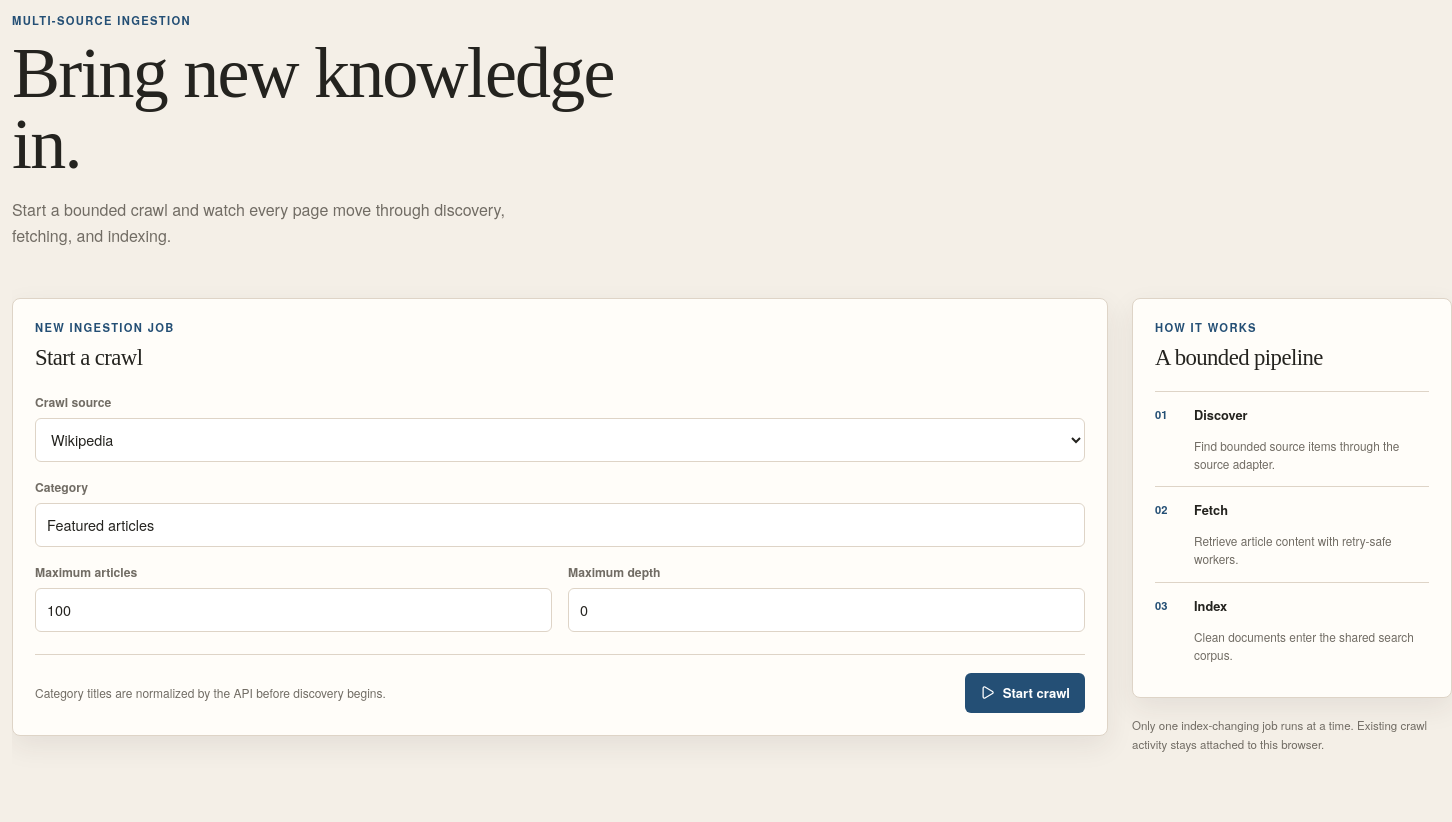
it: CrawlsPage › validates crawl bounds before submitting
Clear the field labelled "Category" at {"x": 560, "y": 525}, box [35, 503, 1085, 547]
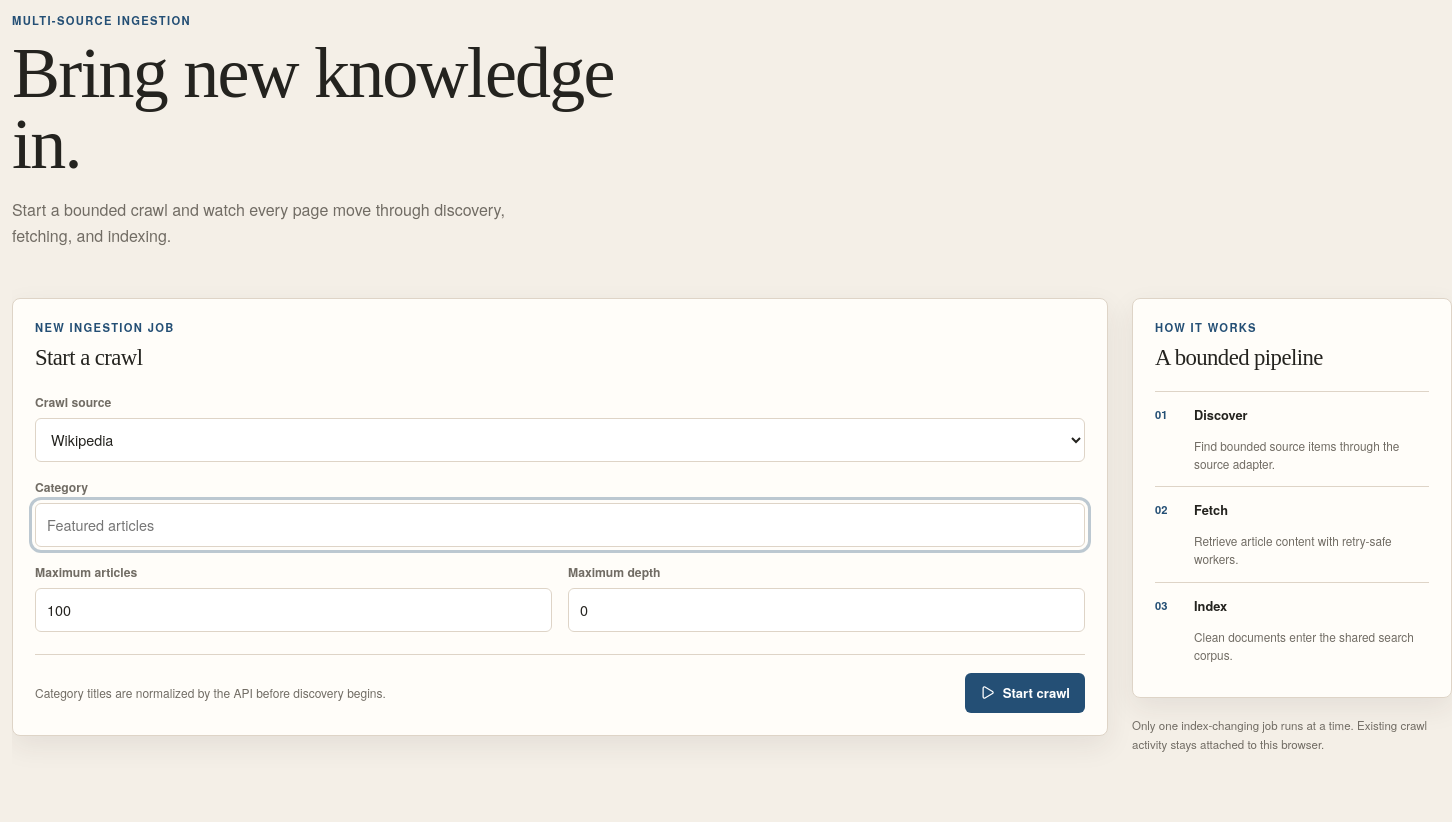
Replace the text in the number field labelled "Maximum articles" with "0" at {"x": 294, "y": 610}, box [35, 588, 552, 632]
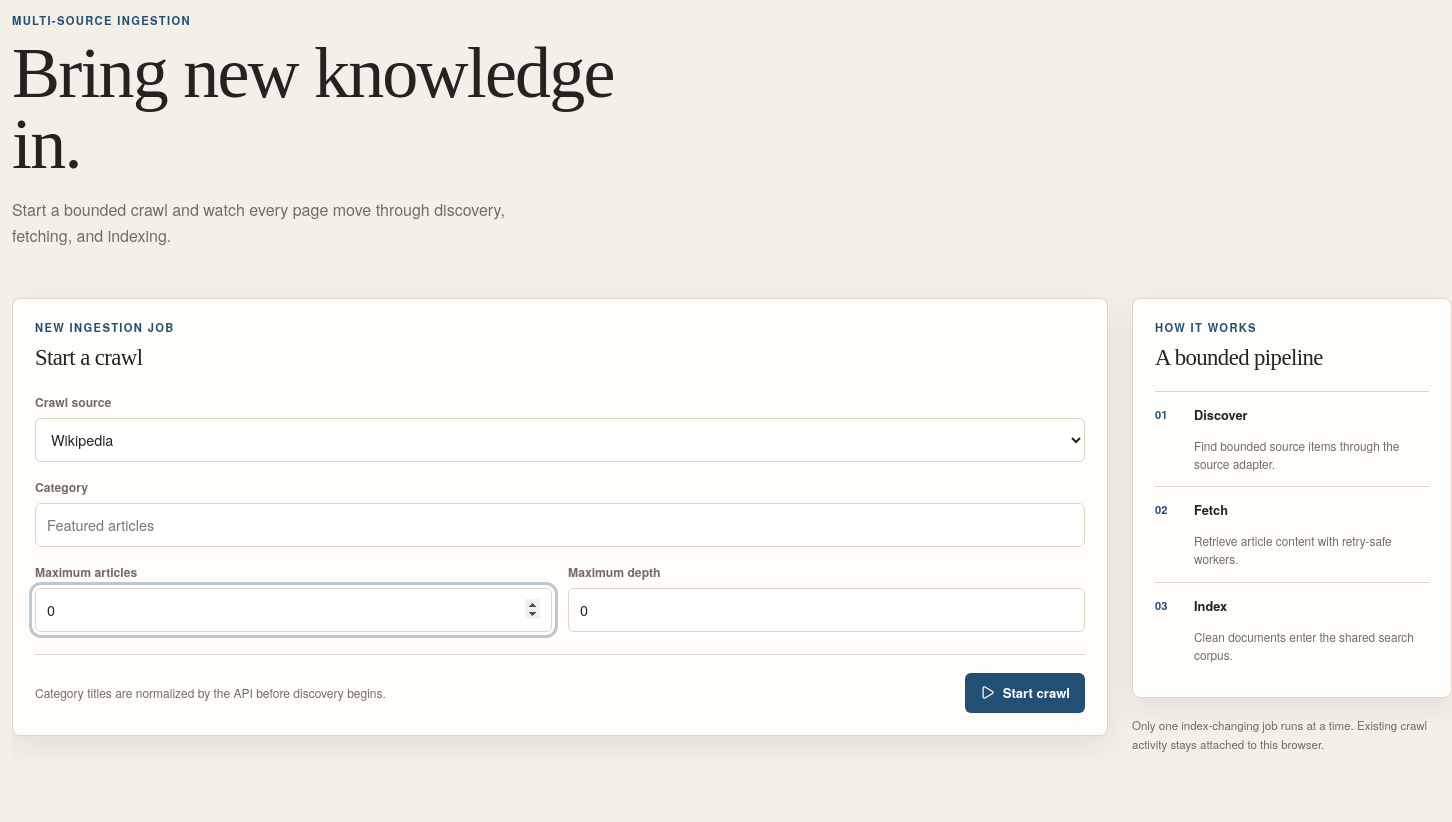
Replace the text in the number field labelled "Maximum depth" with "3" at {"x": 826, "y": 610}, box [568, 588, 1085, 632]
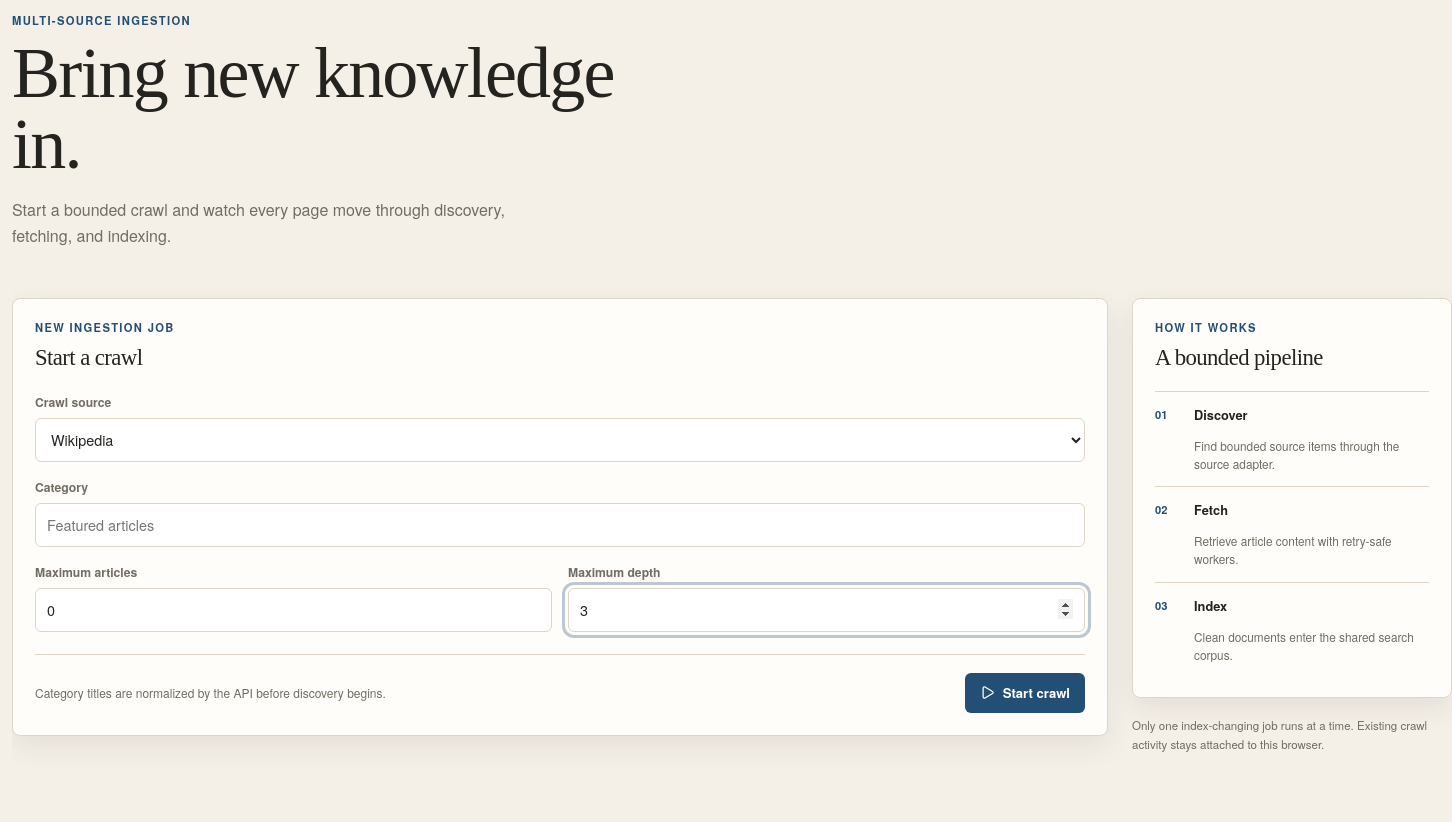
Click the button "Start crawl" at {"x": 1025, "y": 693}, box [965, 673, 1085, 713]
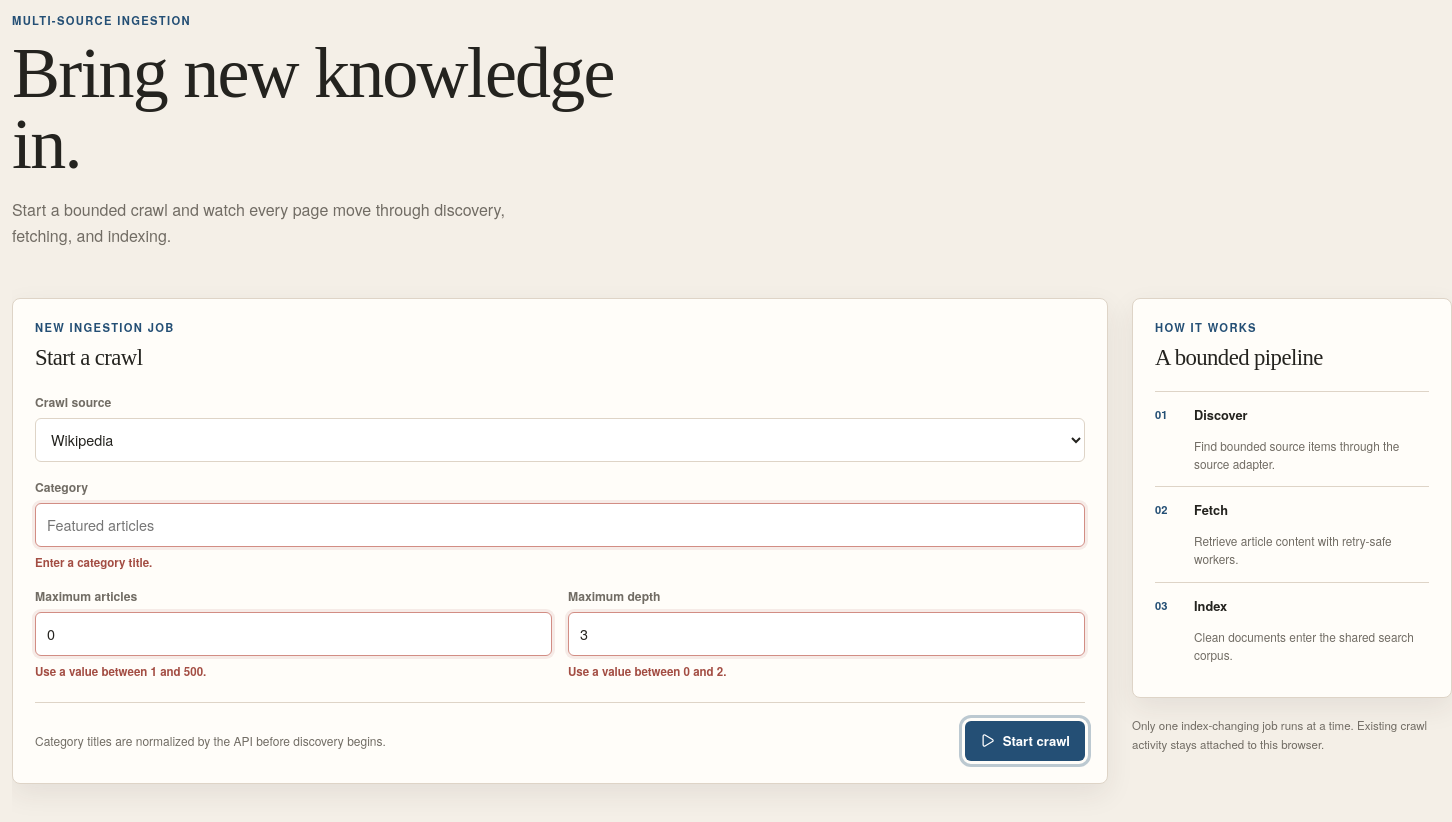
Now the text "Enter a category title." is shown, box [35, 554, 152, 571]
Now the text "Use a value between 1 and 500." is shown, box [35, 663, 206, 680]
Now the text "Use a value between 0 and 2." is shown, box [568, 663, 726, 680]
